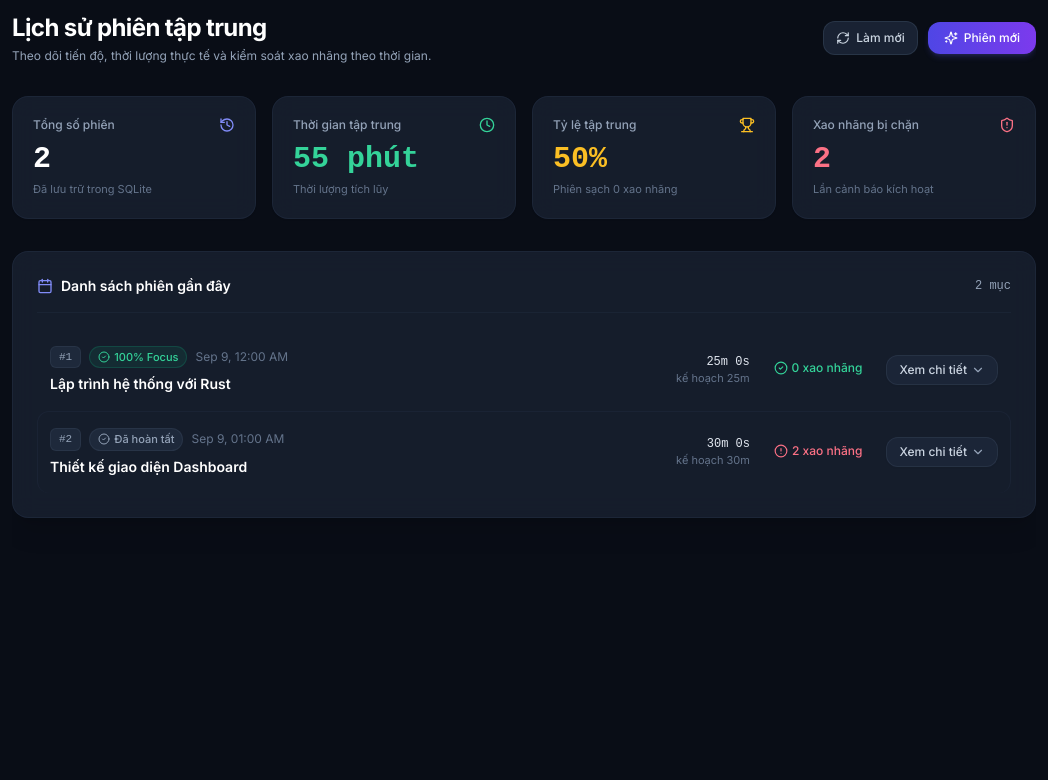
Test: Dashboard Component › expands session row and displays detailed distractions breakdown
Expected: the heading "Thiết kế giao diện Dashboard" is shown, x1=50 y1=458 x2=247 y2=474
Note: Click expand
What coordinates should you click on to do the following:
click the button with id "btn-expand-session-2"
I would click on:
 (942, 452)
Its box is x1=886 y1=437 x2=998 y2=467.
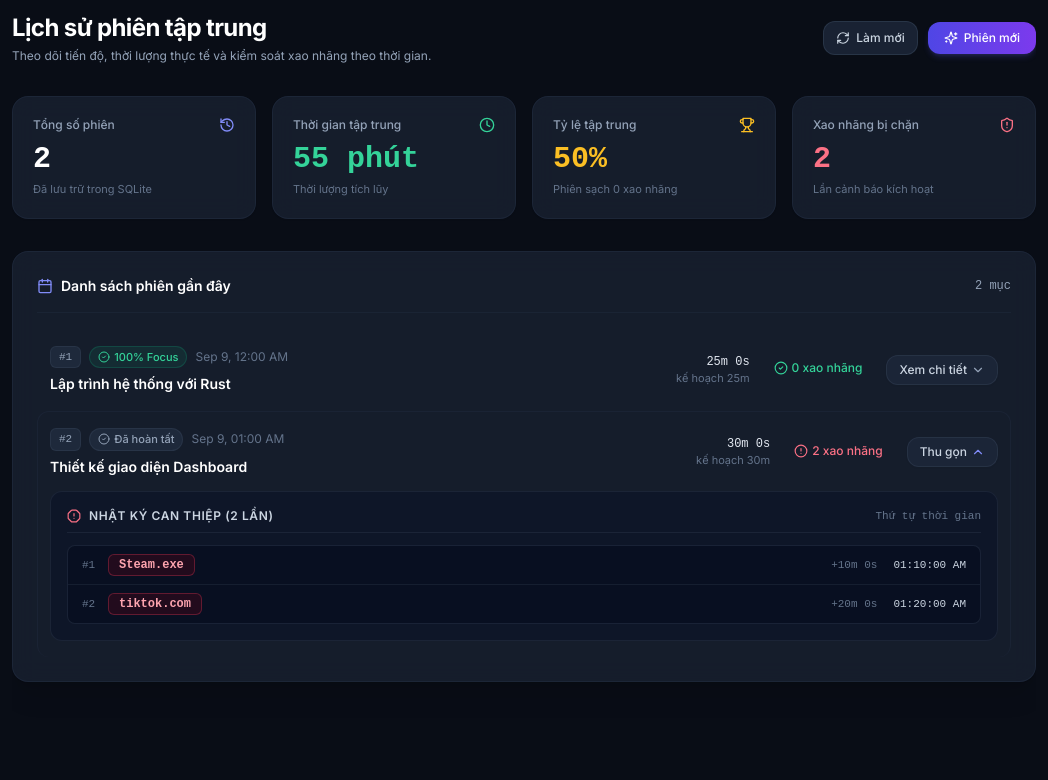
Now the text "Steam.exe" is shown, box x1=108 y1=554 x2=195 y2=576
Now the text "tiktok.com" is shown, box x1=108 y1=593 x2=202 y2=615
Now the text "Nhật ký can thiệp (2 lần)" is shown, box x1=89 y1=508 x2=274 y2=524
Note: Toggle collapse
What coordinates should you click on to do the following:
click the button with id "btn-expand-session-2"
I would click on:
 (952, 452)
Its box is x1=907 y1=437 x2=998 y2=467.
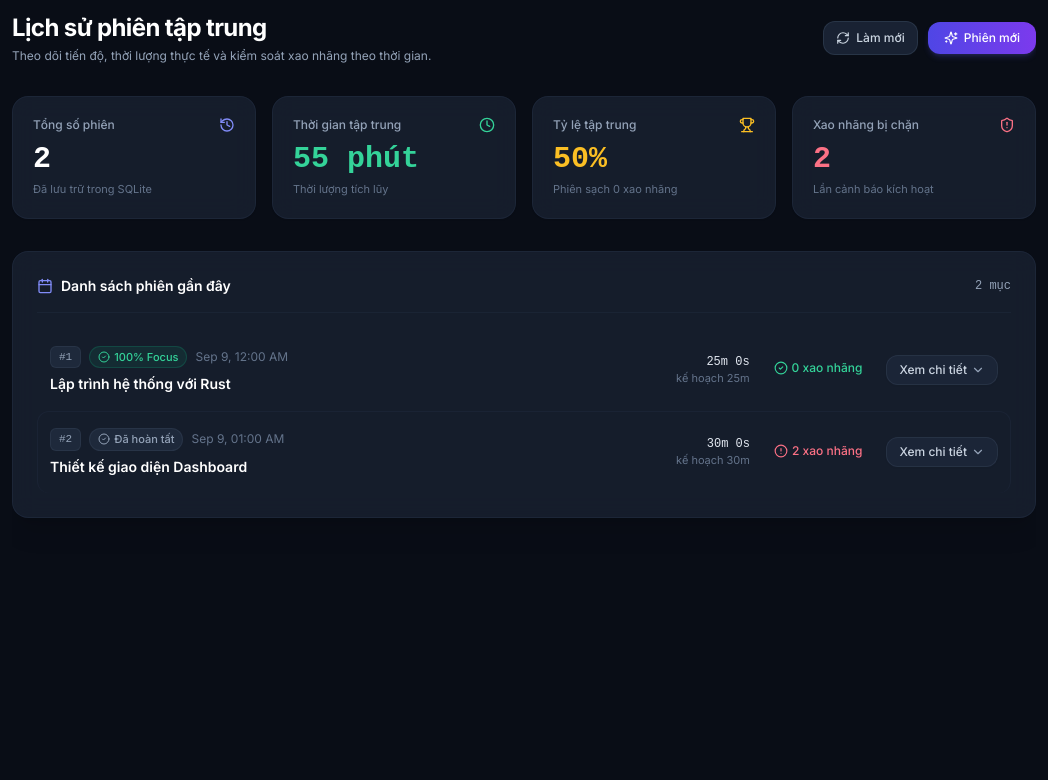
Now the element with id "session-details-2" is gone
